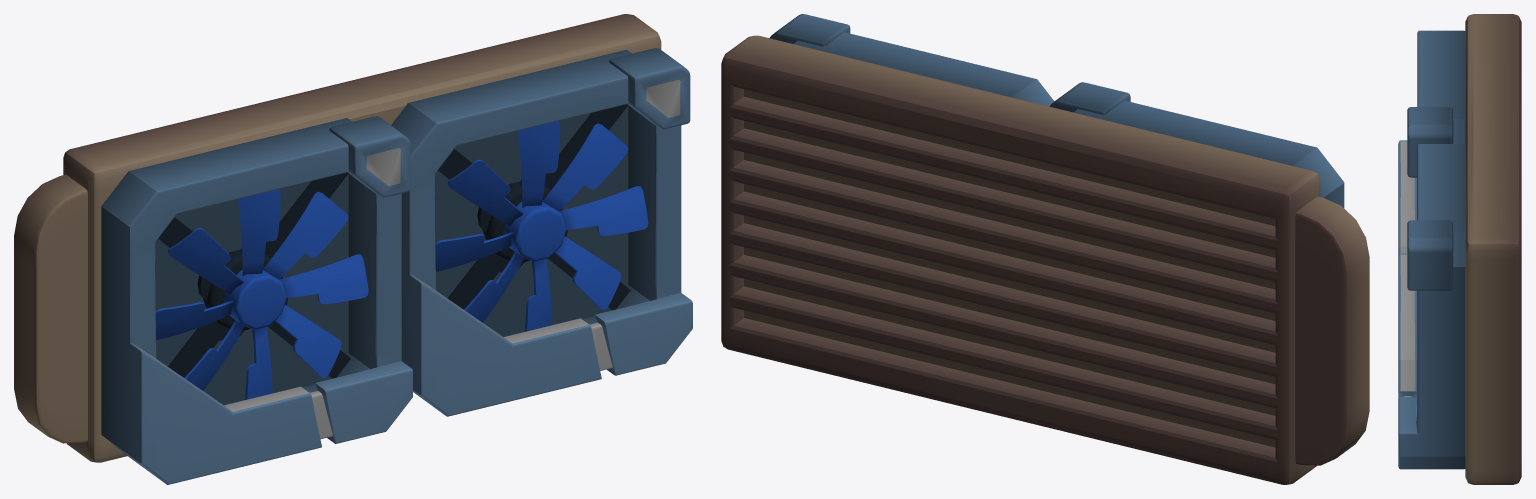
The model's file is Cooling_systems_lvl_09_V01.fbx.
3 views of the same model, side by side, from view 1: azimuth 30°, elevation 25°; view 2: azimuth 150°, elevation 25°; view 3: azimuth 270°, elevation 25° (orthographic). The views are drawn at different scales.
Parts seen in each view (by area): view 1: Body_Cooling, Fan_Cooling_01, Fan_Cooling_01.001; view 2: Body_Cooling; view 3: Body_Cooling.
Part boxes in pixels (left/top/right/bottom): Body_Cooling: left=14, top=14, right=692, bottom=484; Fan_Cooling_01: left=155, top=189, right=368, bottom=399; Fan_Cooling_01.001: left=435, top=121, right=648, bottom=331; Body_Cooling: left=721, top=14, right=1369, bottom=484; Body_Cooling: left=1398, top=14, right=1521, bottom=484.
Bounding box in the file's own units: 119 × 53.89 × 24.48.
